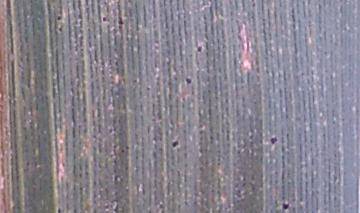tarspot: (168, 137, 182, 152), (267, 132, 280, 146), (194, 42, 207, 56), (280, 200, 292, 213), (183, 74, 195, 87), (99, 13, 110, 26), (116, 15, 127, 27), (55, 23, 65, 35), (54, 13, 66, 22), (54, 205, 66, 213)
